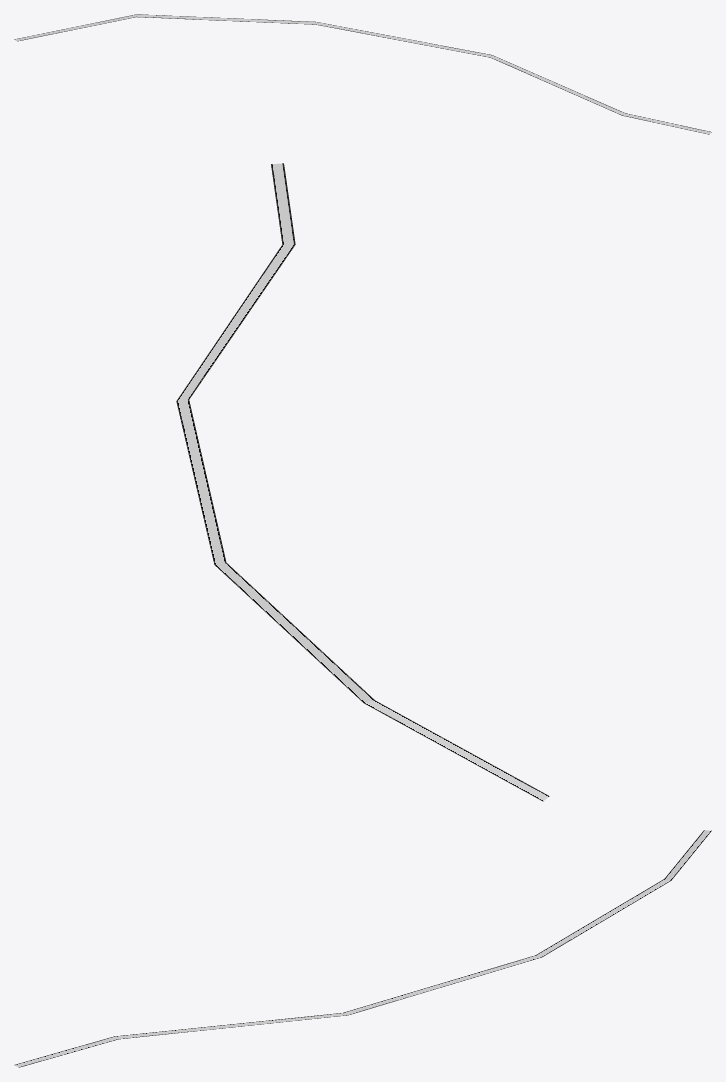
The model's file is M5A_PowerLine02.glb.
3 renders of one model, top to bottom at view 1: azimuth 30°, elevation 25°; view 2: azimuth 150°, elevation 25°; view 3: azimuth 270°, elevation 25°, orthographic. The views are drawn at different scales.
Parts seen in each view (by area): view 1: M5A_POWERLINE02; view 2: M5A_POWERLINE02; view 3: M5A_POWERLINE02.
Part boxes in pixels (x1,y1,x2,y2): M5A_POWERLINE02: (14,14,711,134); M5A_POWERLINE02: (176,163,549,801); M5A_POWERLINE02: (14,830,711,1067).
Bounding box in the file's own units: 70.08 × 1.89 × 82.37.
Materials: 1 (1 with a texture image).
